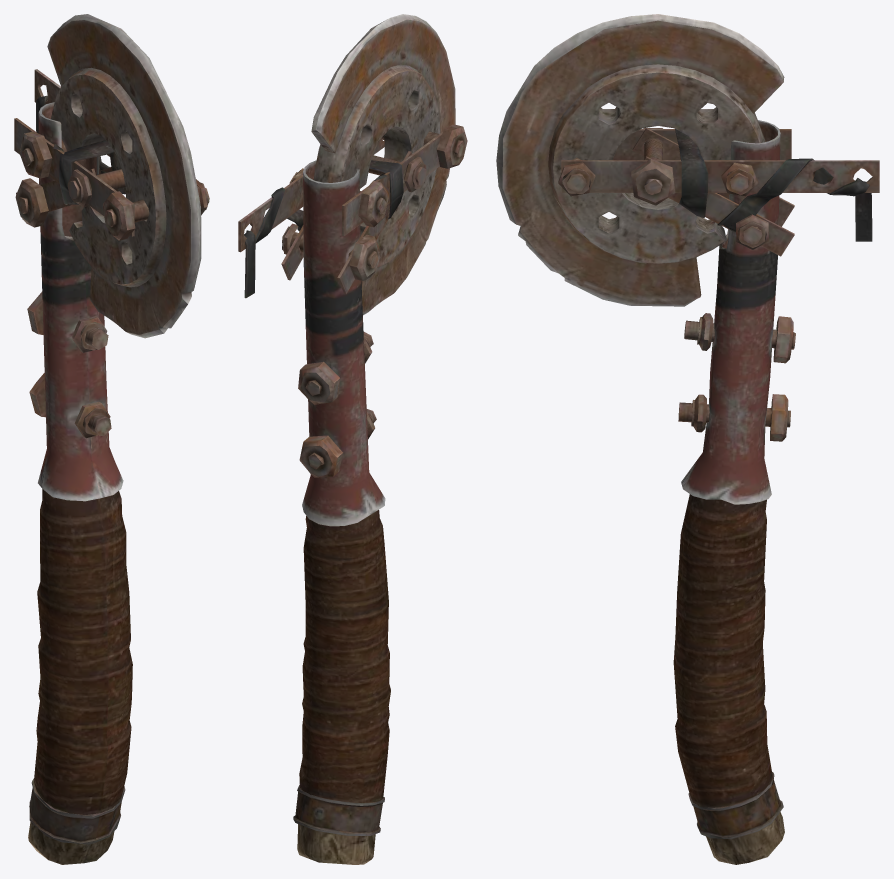
Rendered from axe_salvaged.projectile.glb.
The picture shows the model from 3 angles, left to right: view 1: azimuth 30°, elevation 25°; view 2: azimuth 150°, elevation 25°; view 3: azimuth 270°, elevation 25°; orthographic projection. The views are drawn at different scales.
Parts seen in each view (by area): view 1: w_salvaged_axe_LOD0; view 2: w_salvaged_axe_LOD0; view 3: w_salvaged_axe_LOD0.
Boxes of the visible parts, left/top/right/bottom form: w_salvaged_axe_LOD0: left=14, top=14, right=209, bottom=864; w_salvaged_axe_LOD0: left=238, top=14, right=467, bottom=864; w_salvaged_axe_LOD0: left=496, top=14, right=879, bottom=864.
Bounding box in the file's own units: 0.059 × 0.4784 × 0.1974.
Materials: 1 (1 with a texture image).
